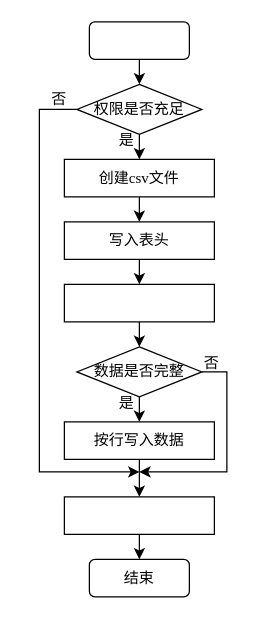
The diagram is 270 pixels wide and 619 high, and some of its shapes have lost their labels. The centre of each missing label's shape, as x and y in pixels:
"开始" belongs at point (138, 40).
"弹窗提示" belongs at point (138, 515).
"缓存数据提取" belongs at point (138, 302).
